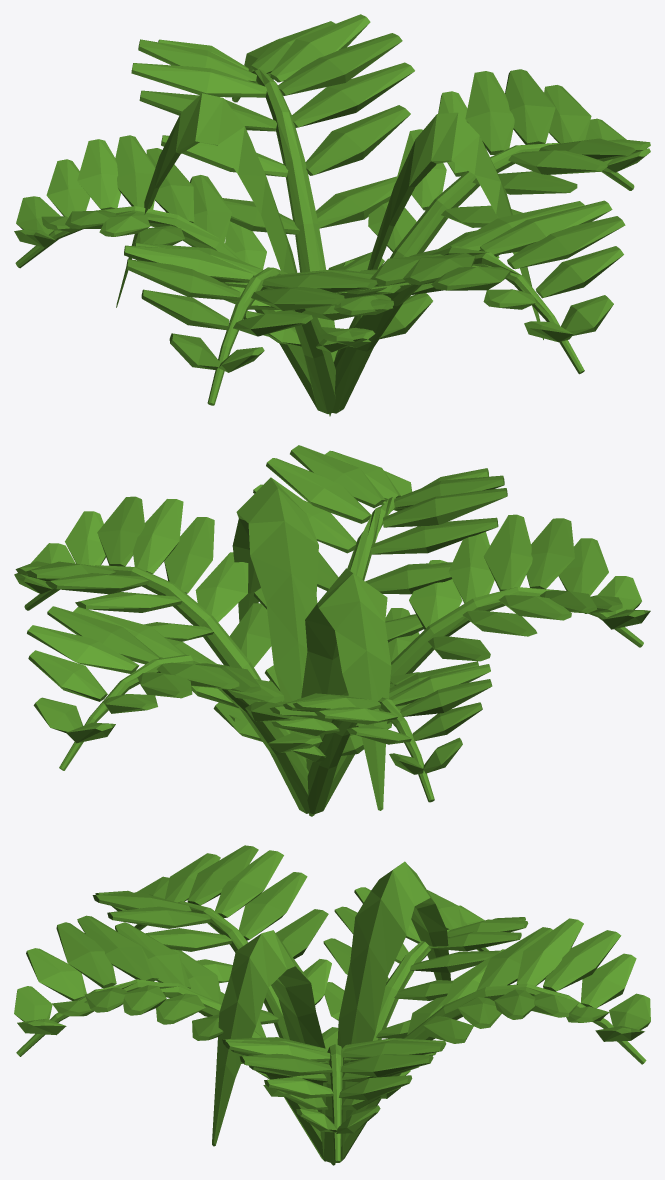
The model's file is 07_small_fern.glb.
3 renders of one model, top to bottom at view 1: azimuth 30°, elevation 25°; view 2: azimuth 150°, elevation 25°; view 3: azimuth 270°, elevation 25°, orthographic. The views are drawn at different scales.
Parts seen in each view (by area): view 1: 07_small_fern; view 2: 07_small_fern; view 3: 07_small_fern.
Boxes of the visible parts, x1,y1,x2,y2 form: 07_small_fern: (14, 14, 650, 416); 07_small_fern: (14, 445, 650, 816); 07_small_fern: (14, 845, 650, 1165).
Size of the model in its own units: 0.8871 by 0.4671 by 1.01.
